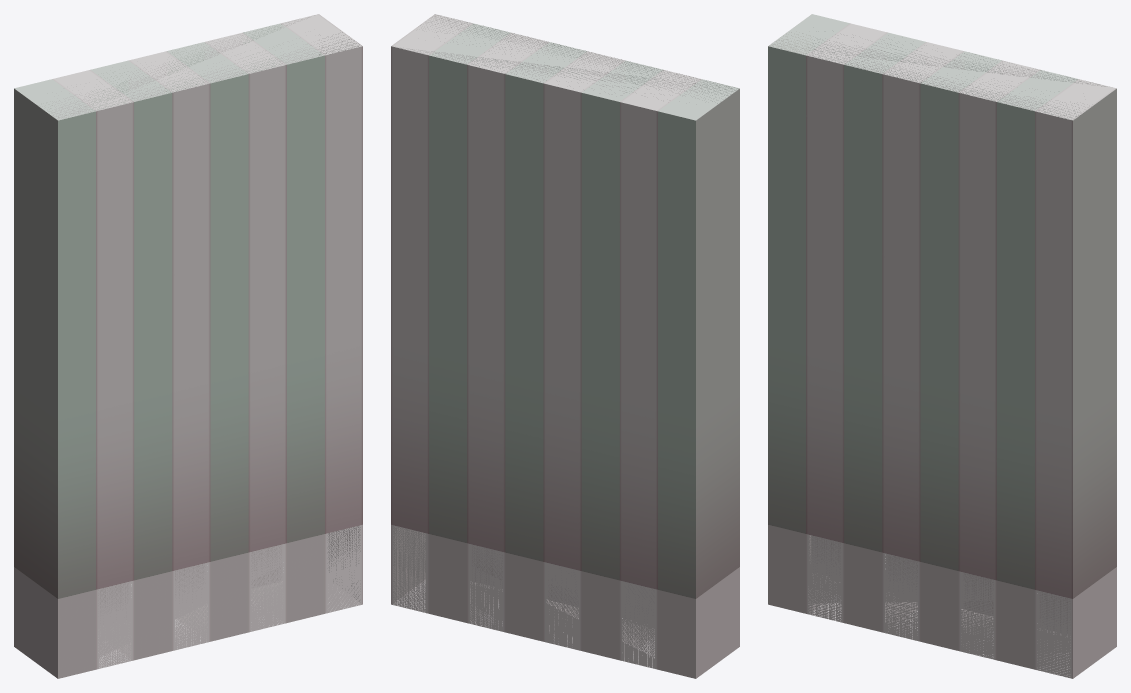
Rendered from Wall_A.fbx.
3 renders of one model, left to right at view 1: azimuth 30°, elevation 25°; view 2: azimuth 150°, elevation 25°; view 3: azimuth 330°, elevation 25°, orthographic.
Visible parts, largest first — view 1: Wall_A; view 2: Wall_A; view 3: Wall_A.
Part boxes in pixels (x1=…): Wall_A: x1=14, y1=14, x2=362, y2=678; Wall_A: x1=391, y1=14, x2=739, y2=678; Wall_A: x1=768, y1=14, x2=1116, y2=678.
Bounding box in the file's own units: 2 × 3.5 × 0.5.
